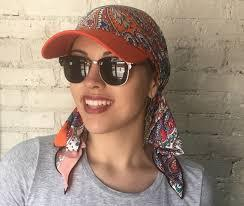cap: (28, 1, 176, 75)
sunglasses: (56, 50, 144, 96)
